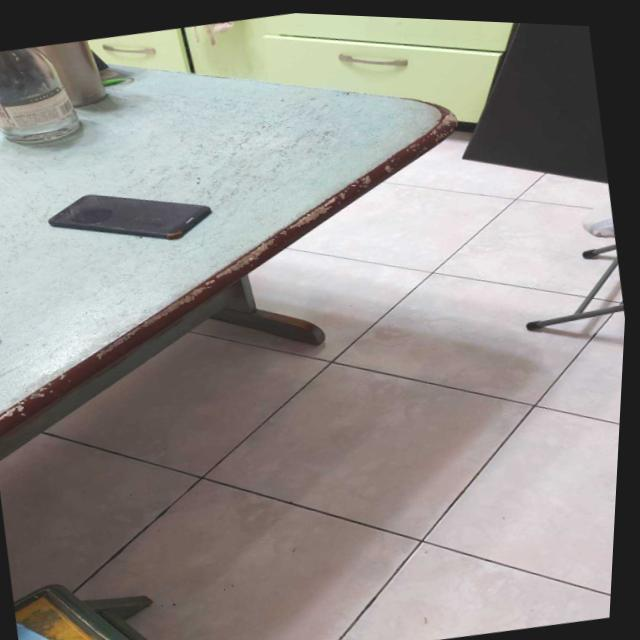Smartphone: (29, 182, 230, 250)
